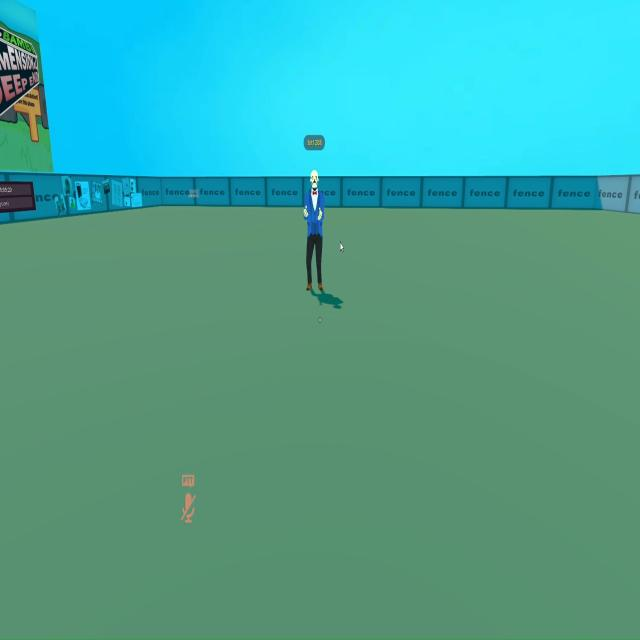human: (298, 164, 332, 302)
